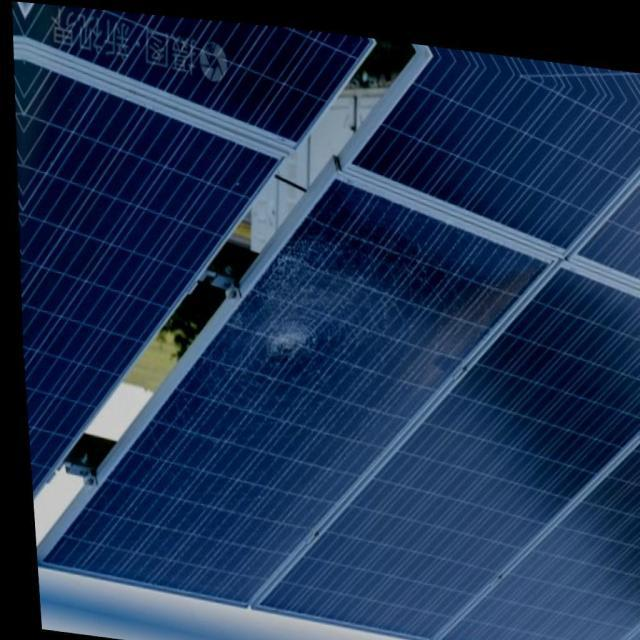cracked: (61, 174, 525, 600)
